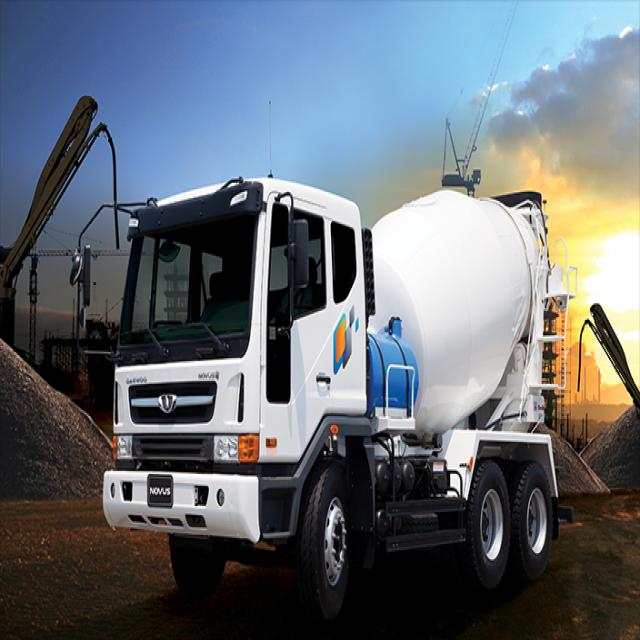Mixer Truck: (104, 177, 577, 618)
